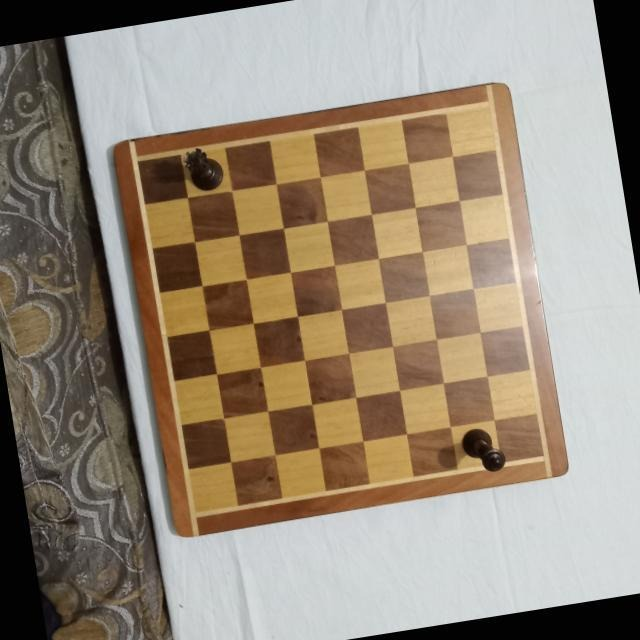black-king: (457, 423, 507, 477)
black-queen: (181, 144, 225, 195)
